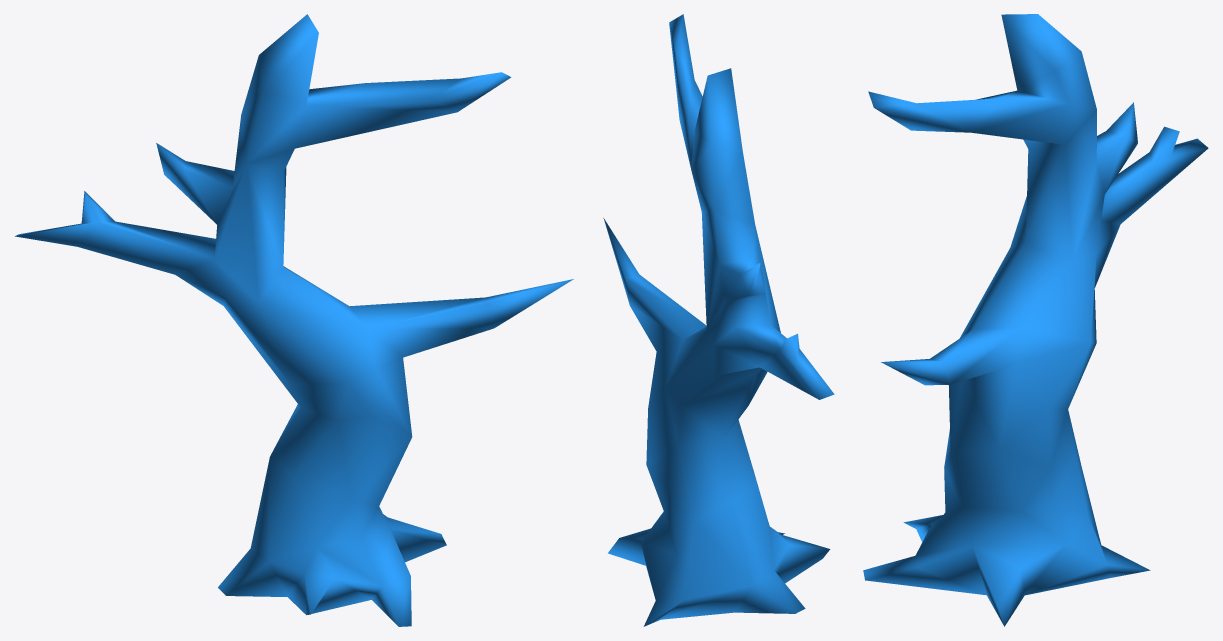
File: Tree 3 DECIMATE.fbx
The picture shows the model from 3 angles, left to right: view 1: azimuth 30°, elevation 25°; view 2: azimuth 150°, elevation 25°; view 3: azimuth 270°, elevation 25°; orthographic projection. The views are drawn at different scales.
Visible parts, largest first — view 1: BSurfaceMesh.002; view 2: BSurfaceMesh.002; view 3: BSurfaceMesh.002.
Boxes of the visible parts, x1=… form: BSurfaceMesh.002: x1=15, y1=14, x2=573, y2=626; BSurfaceMesh.002: x1=603, y1=14, x2=834, y2=626; BSurfaceMesh.002: x1=863, y1=14, x2=1208, y2=626.
Size of the model in its own units: 560 by 743 by 414.
